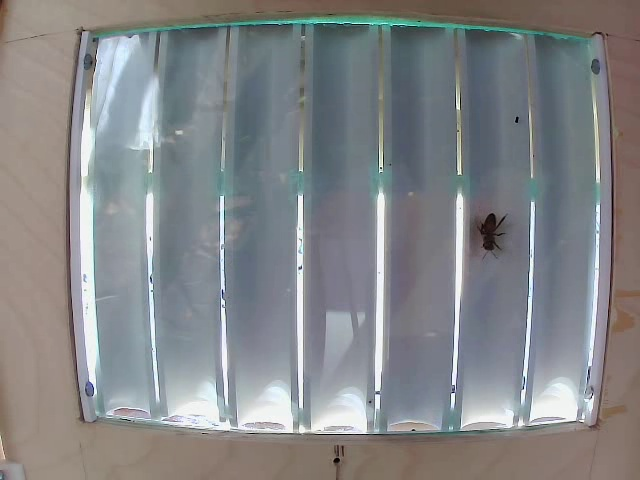bee: (474, 196, 510, 249)
